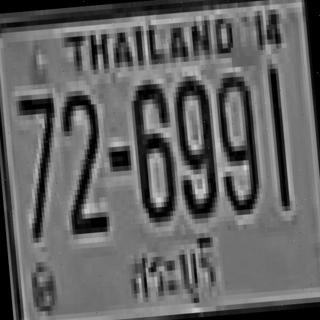N01: (265, 61, 288, 204), (266, 64, 288, 206)
N02: (58, 86, 107, 232)
N06: (129, 76, 175, 216)
N07: (15, 88, 65, 238)
N09: (212, 68, 259, 209), (170, 72, 216, 212)
P60: (121, 228, 225, 311)
